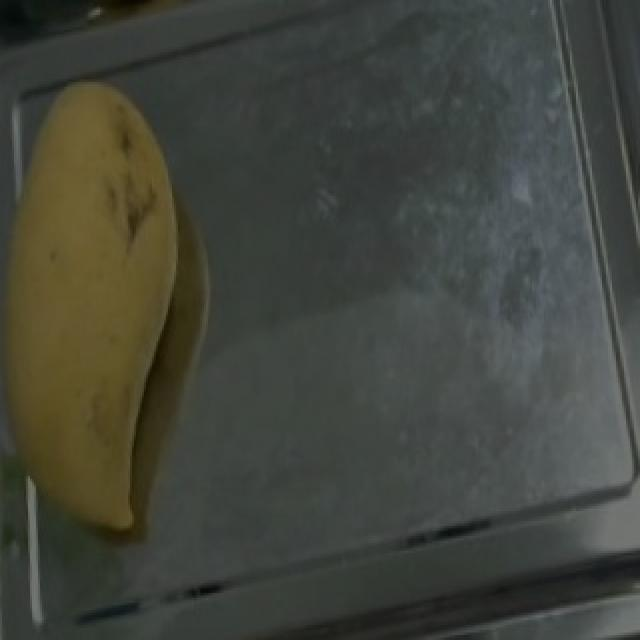fruit: (0, 47, 254, 439)
